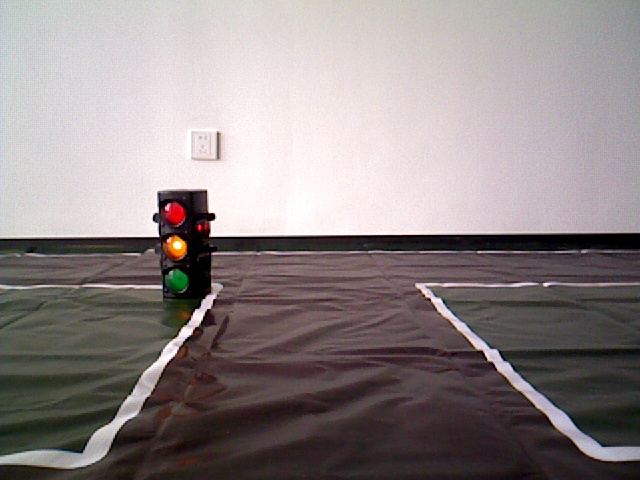yellow: (158, 191, 206, 297)
